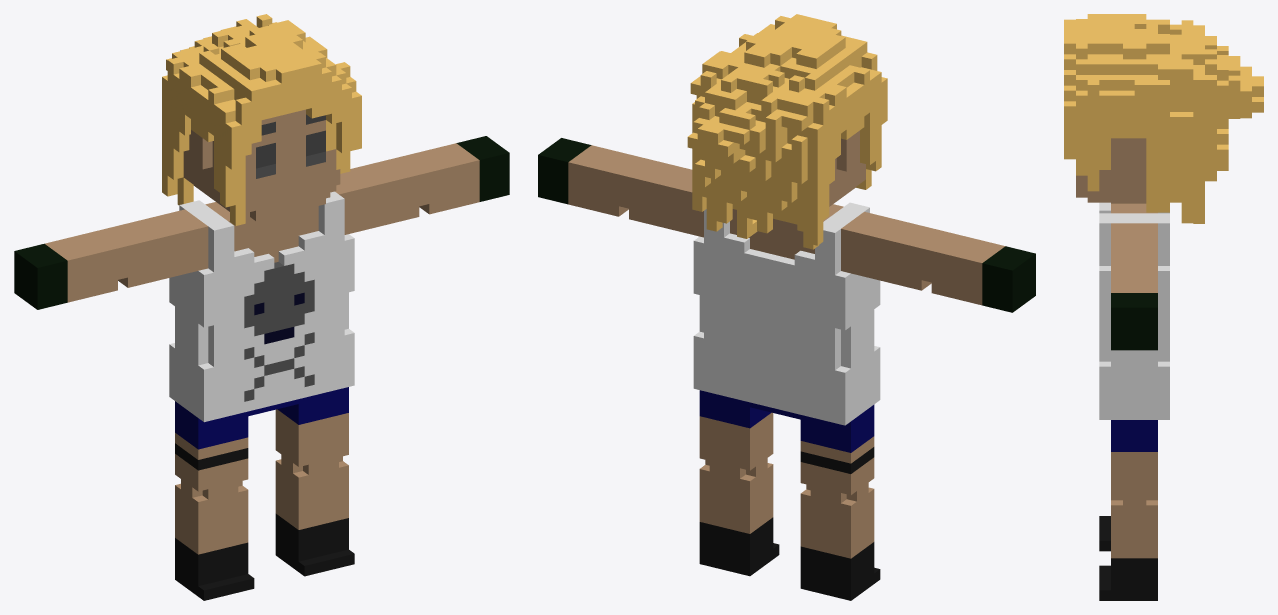
File: character11.obj
The picture shows the model from 3 angles, left to right: view 1: azimuth 30°, elevation 25°; view 2: azimuth 150°, elevation 25°; view 3: azimuth 270°, elevation 25°; orthographic projection.
Size of the model in its own units: 4.7 by 5 by 1.7.
Materials: 1 (1 with a texture image).
